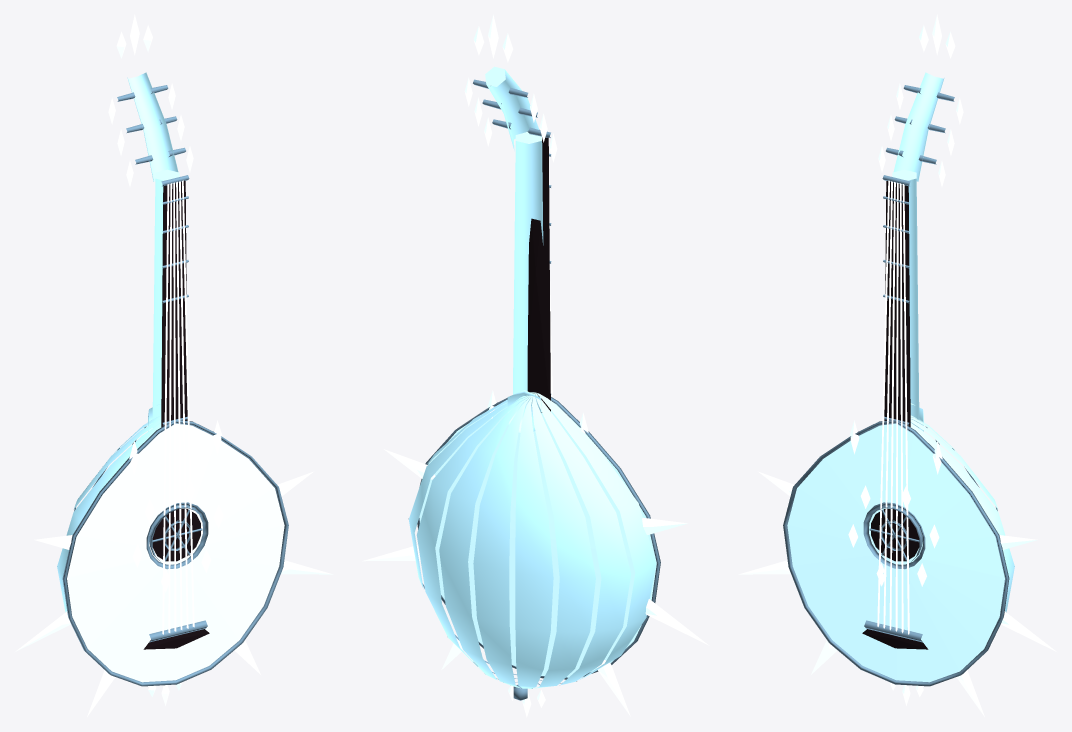
Rendered from lute_5.glb.
3 renders of one model, left to right at view 1: azimuth 30°, elevation 25°; view 2: azimuth 150°, elevation 25°; view 3: azimuth 330°, elevation 25°, orthographic. The views are drawn at different scales.
Visible parts, largest first — view 1: lute_5; view 2: lute_5; view 3: lute_5.
Part boxes in pixels (bbox=[...]): lute_5: bbox=[15, 14, 333, 716]; lute_5: bbox=[362, 14, 709, 717]; lute_5: bbox=[738, 14, 1056, 716].
Bounding box in the file's own units: 0.3843 × 0.769 × 0.1.
